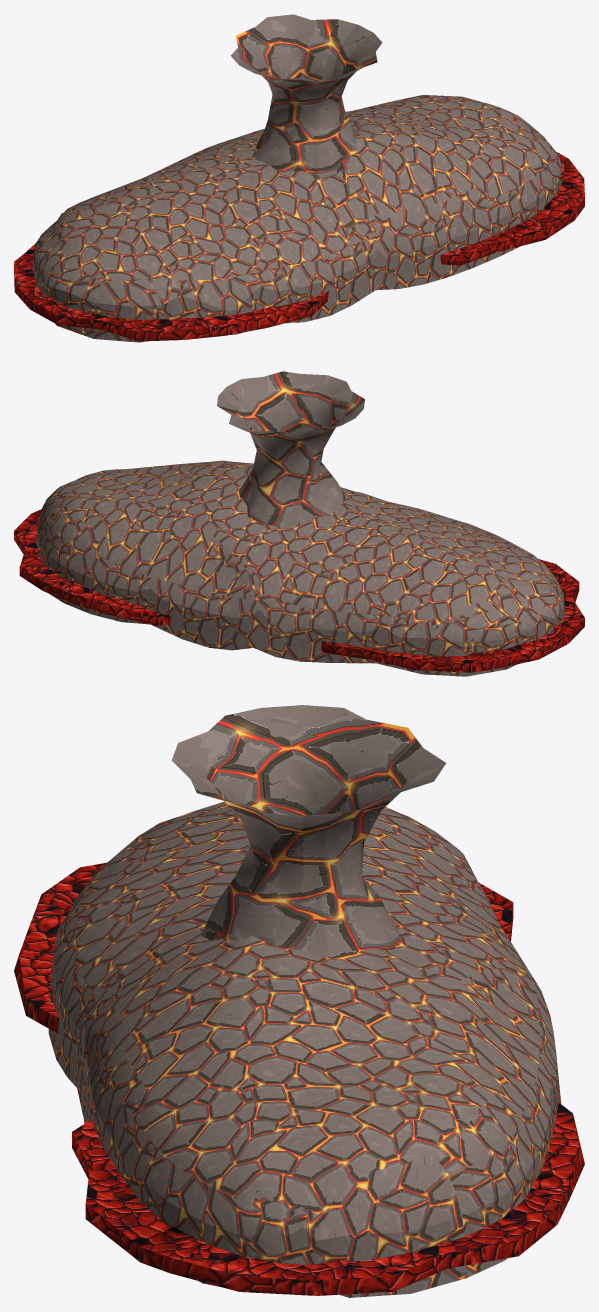
Rendered from NivelFuego2.FBX.
3 renders of one model, top to bottom at view 1: azimuth 30°, elevation 25°; view 2: azimuth 150°, elevation 25°; view 3: azimuth 270°, elevation 25°, orthographic. The views are drawn at different scales.
Visible parts, largest first — view 1: Techo2; view 2: Techo2; view 3: Techo2.
Part boxes in pixels (left/top/right/bottom): Techo2: left=14, top=14, right=584, bottom=342; Techo2: left=14, top=371, right=584, bottom=676; Techo2: left=14, top=705, right=584, bottom=1297.
Bounding box in the file's own units: 2240 × 785 × 1194.
4 materials, 4 textured.
